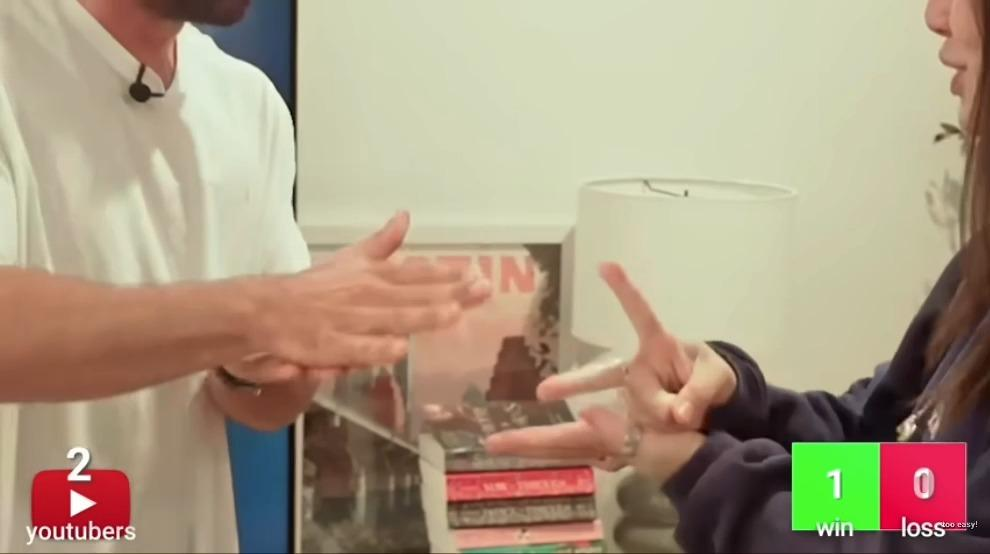Paper: (244, 206, 492, 372)
Scissors: (539, 261, 737, 433)
